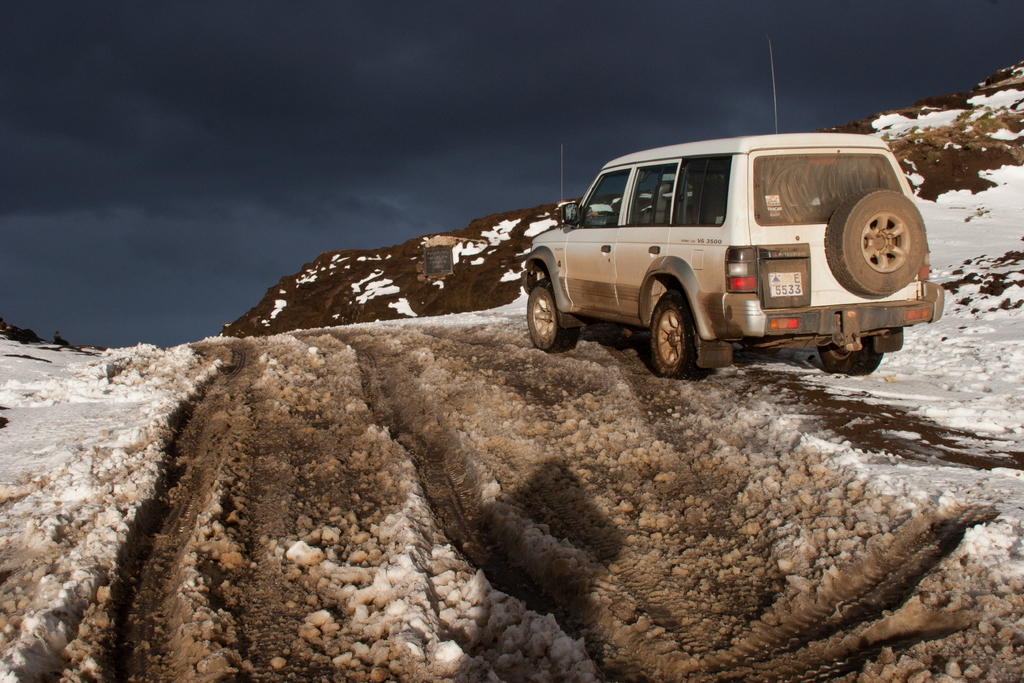Car: (519, 33, 945, 379)
